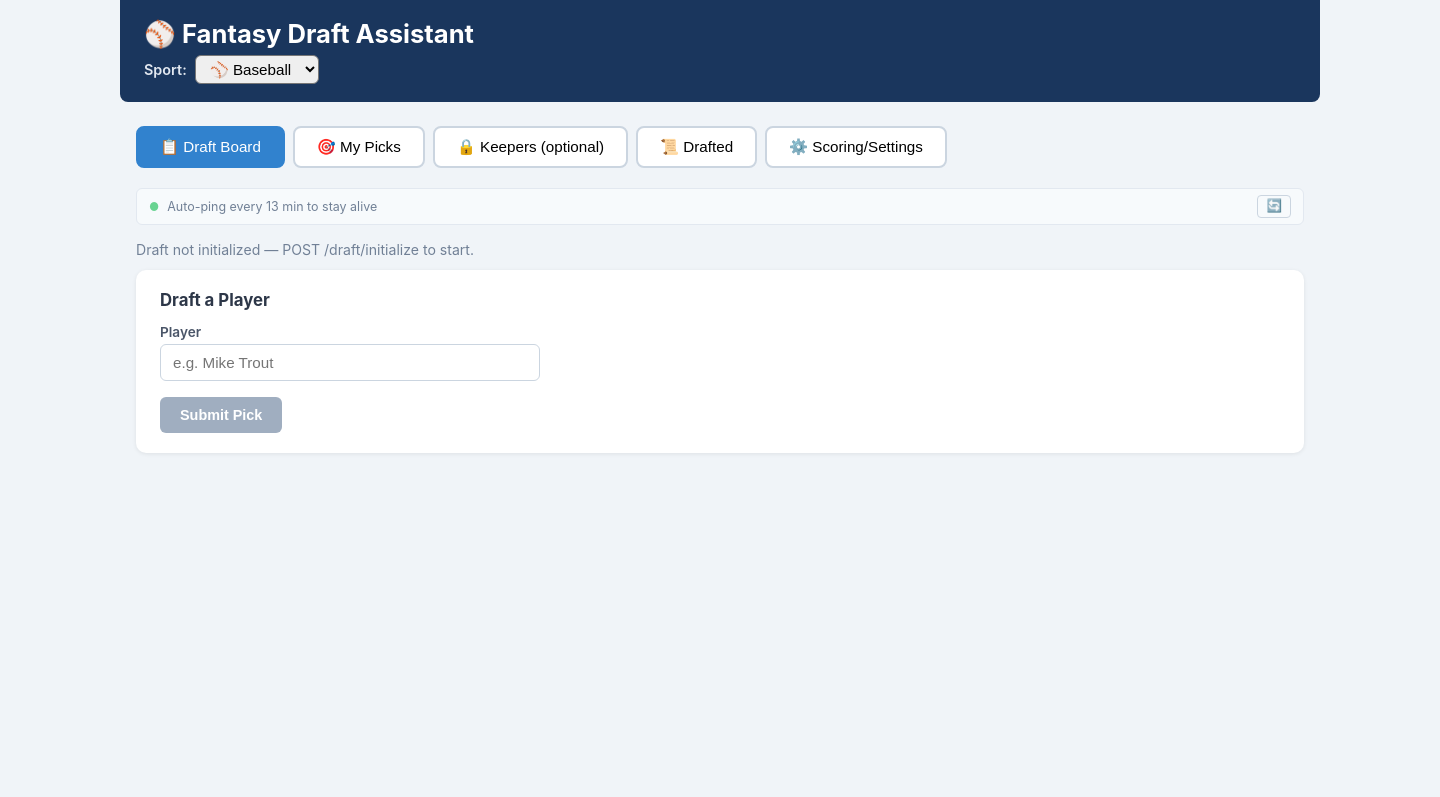
Test: Tab navigation › clicking Draft Board tab returns to draft content
Click the tab "🔒 Keepers (optional)": (530, 147) [433, 126, 628, 168]
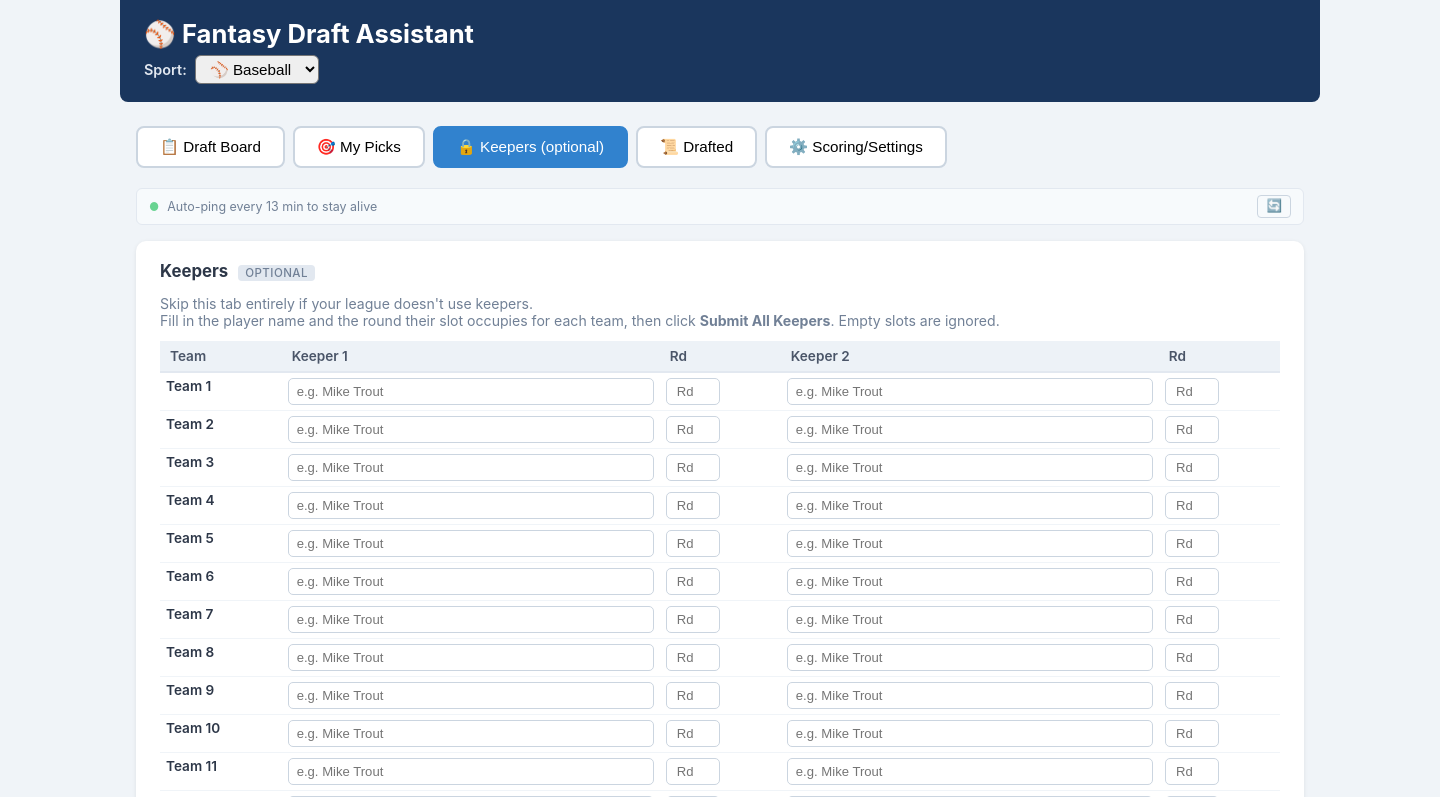
Click the tab "📋 Draft Board": (210, 147) [136, 126, 285, 168]
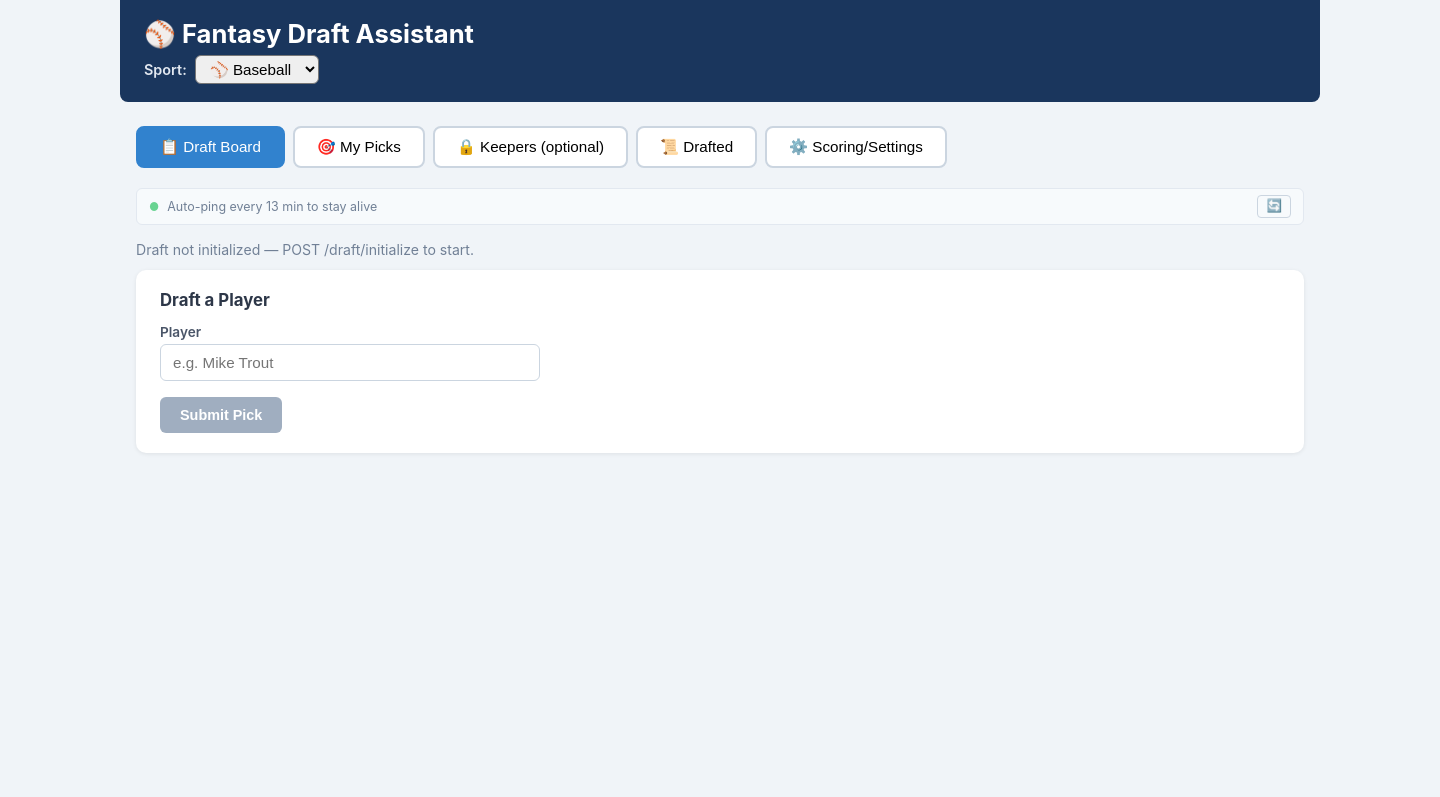
Expected: the element with test id "draft-tab" is shown, [136, 242, 1304, 454]
